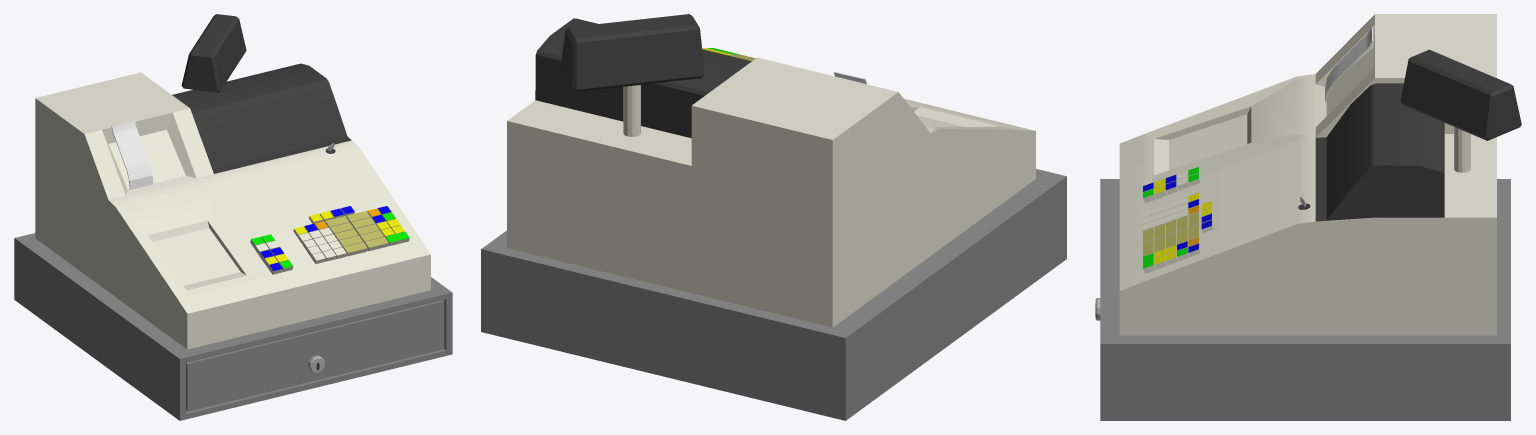
File: CashRegister.fbx
The picture shows the model from 3 angles, left to right: view 1: azimuth 30°, elevation 25°; view 2: azimuth 150°, elevation 25°; view 3: azimuth 270°, elevation 25°; orthographic projection. The views are drawn at different scales.
Visible parts, largest first — view 1: CashRegister; view 2: CashRegister; view 3: CashRegister.
Part boxes in pixels (left/top/right/bottom): CashRegister: left=14, top=14, right=452, bottom=420; CashRegister: left=481, top=14, right=1066, bottom=420; CashRegister: left=1095, top=14, right=1521, bottom=420.
Size of the model in its own units: 34.33 by 28.48 by 37.43.
